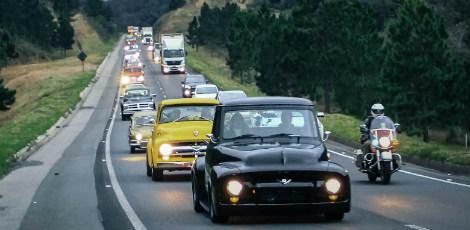Carro: (191, 97, 355, 225), (145, 94, 227, 180), (128, 110, 171, 155), (117, 84, 158, 118), (179, 72, 212, 97), (120, 66, 146, 87), (192, 82, 218, 101)
Moto: (356, 95, 406, 181)
